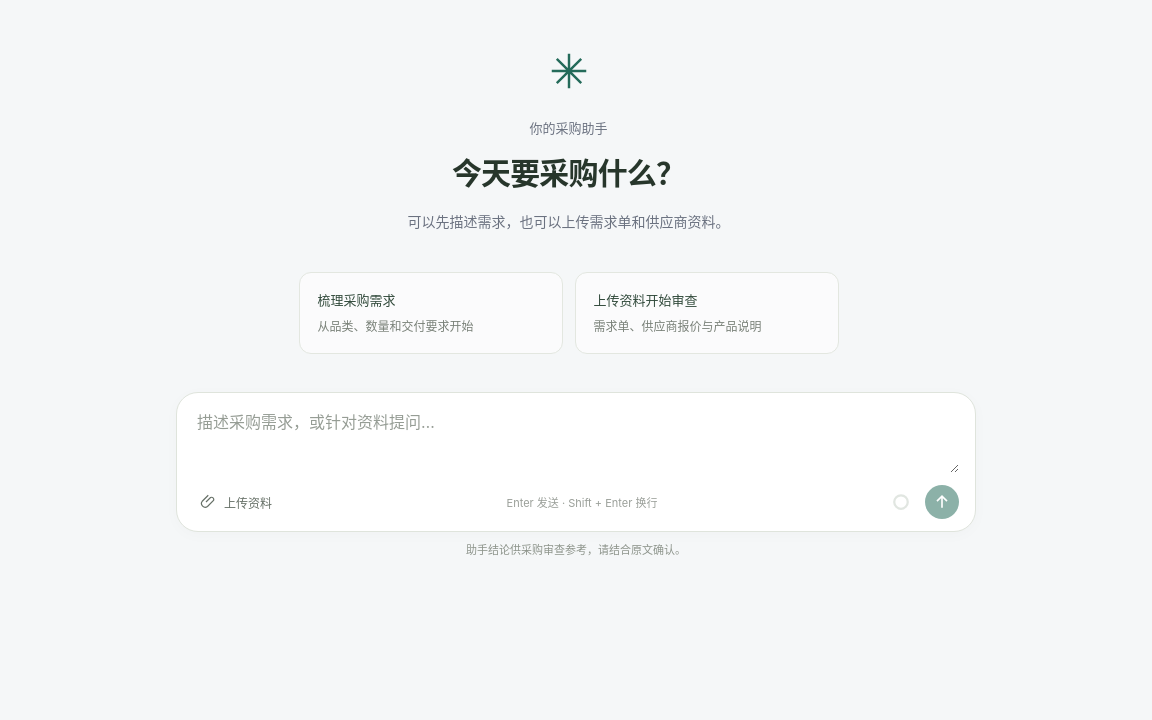
Scenario: context ring sits inside the composer immediately before send and missing Run does not fetch
Click the button with class "context-usage-trigger": (901, 502) 885,486 -> 917,518
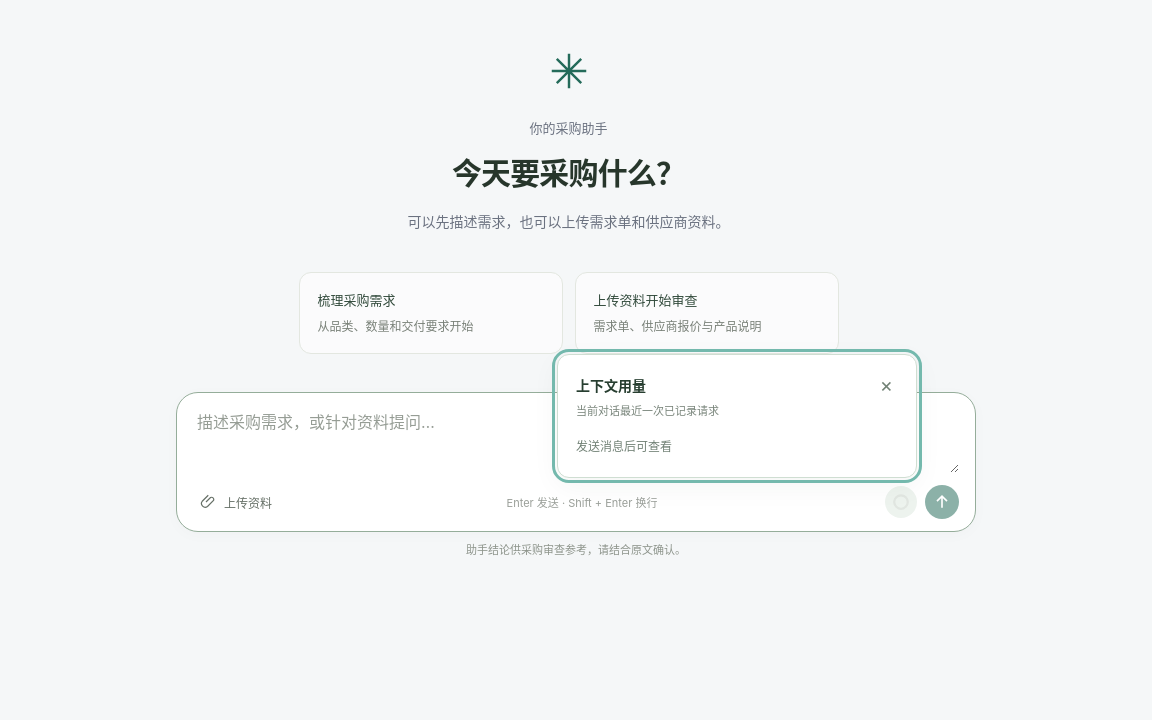
Result: the text "发送消息后可查看" is shown at 576,439 -> 672,454
